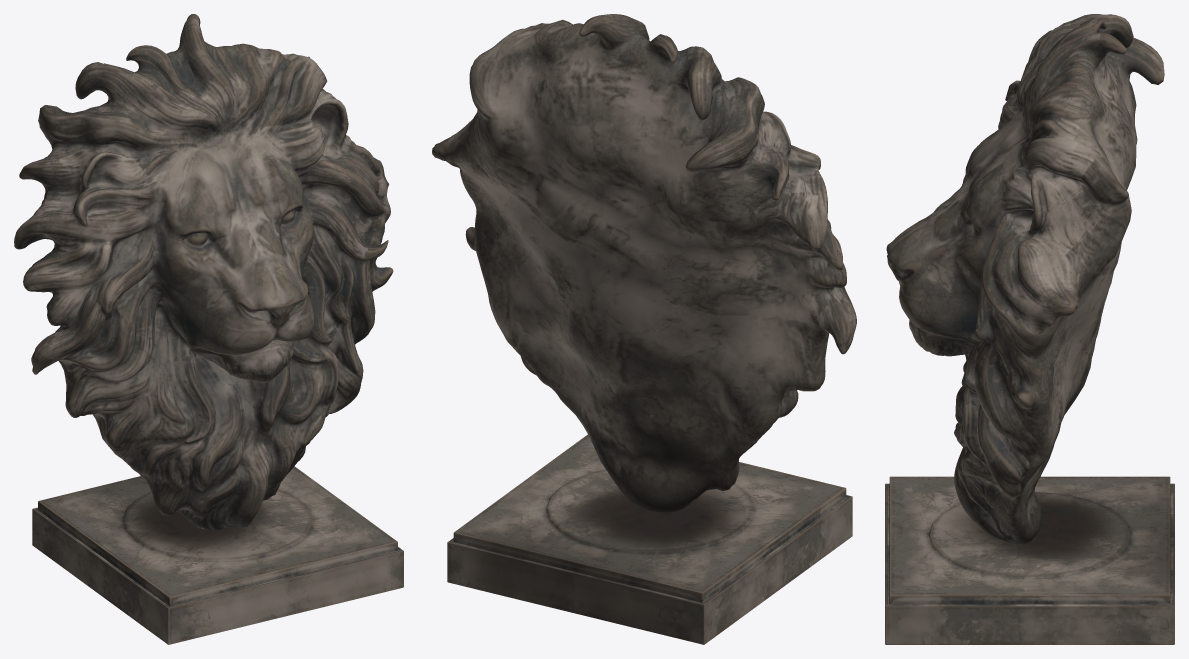
Rendered from lion_head.glb.
The picture shows the model from 3 angles, left to right: view 1: azimuth 30°, elevation 25°; view 2: azimuth 150°, elevation 25°; view 3: azimuth 270°, elevation 25°; orthographic projection. The views are drawn at different scales.
Parts seen in each view (by area): view 1: lion_head; view 2: lion_head; view 3: lion_head.
Part boxes in pixels (left/top/right/bottom): lion_head: left=14, top=14, right=403, bottom=644; lion_head: left=432, top=14, right=856, bottom=644; lion_head: left=885, top=14, right=1174, bottom=644.
Size of the model in its own units: 2 by 2.72 by 1.29.
1 material, 1 textured.
